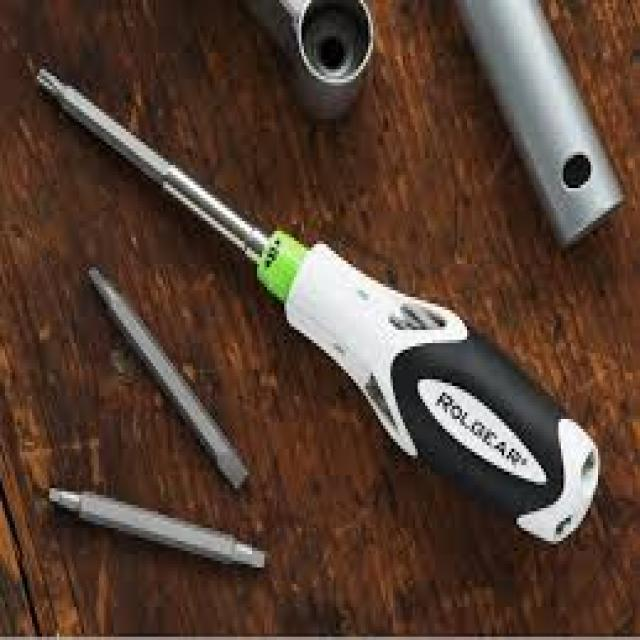screwdriver: (24, 46, 610, 556)
